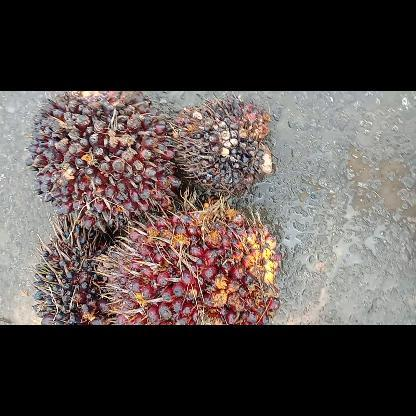Kurang masak: (26, 91, 180, 229)
TBS abnormal: (170, 97, 272, 195), (33, 226, 108, 324)
TBS masak: (102, 202, 278, 322)
